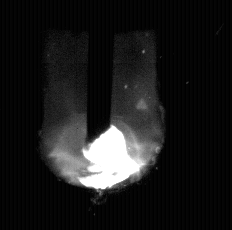arame: (87, 0, 112, 146)
poca: (39, 0, 165, 230)
